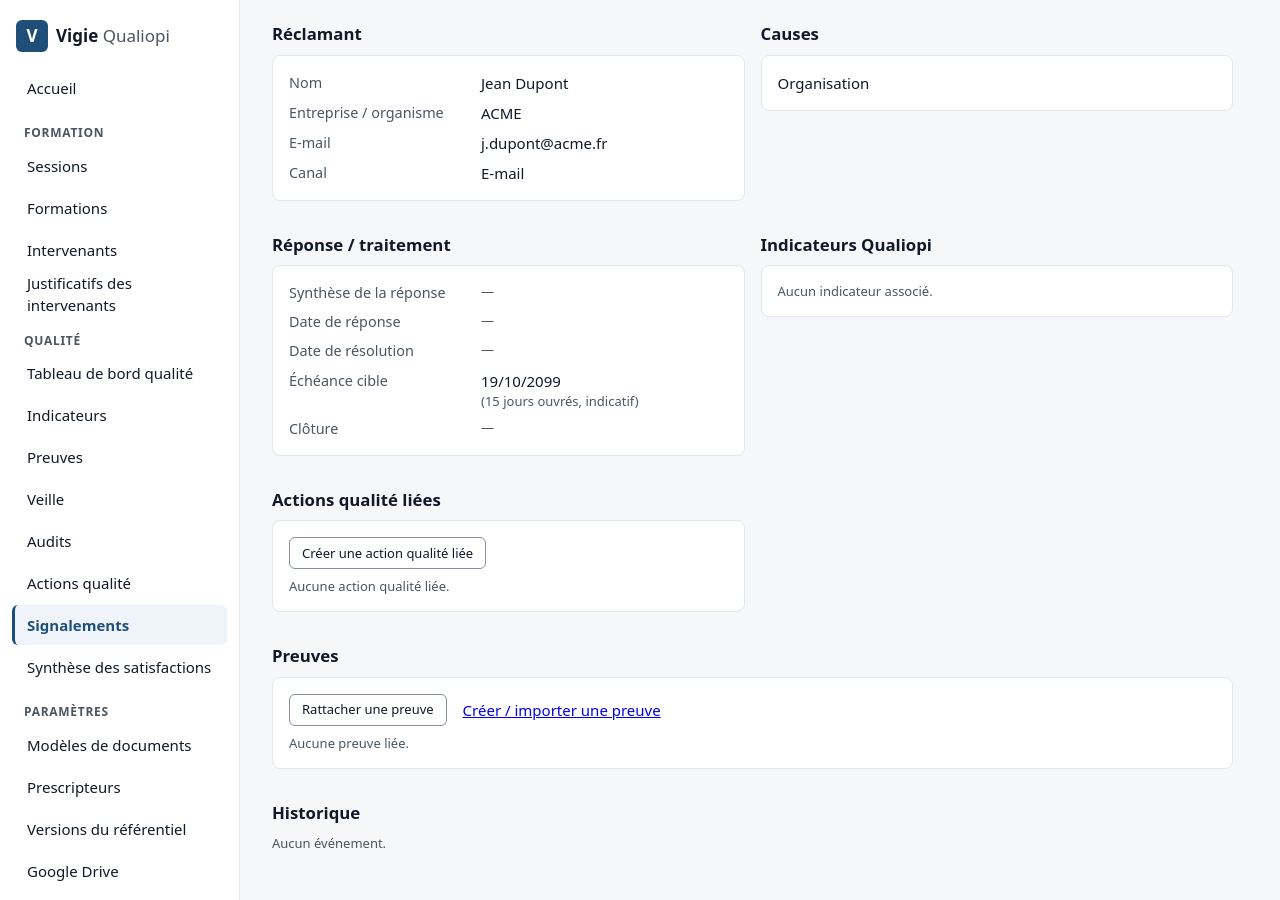
Test case: action liée : bouton sur la fiche admin, formulaire Actions réutilisé, contexte prérempli
(page scrolled)
Click the button "Créer une action qualité liée": (388, 553) [289, 537, 486, 569]
(page scrolled)
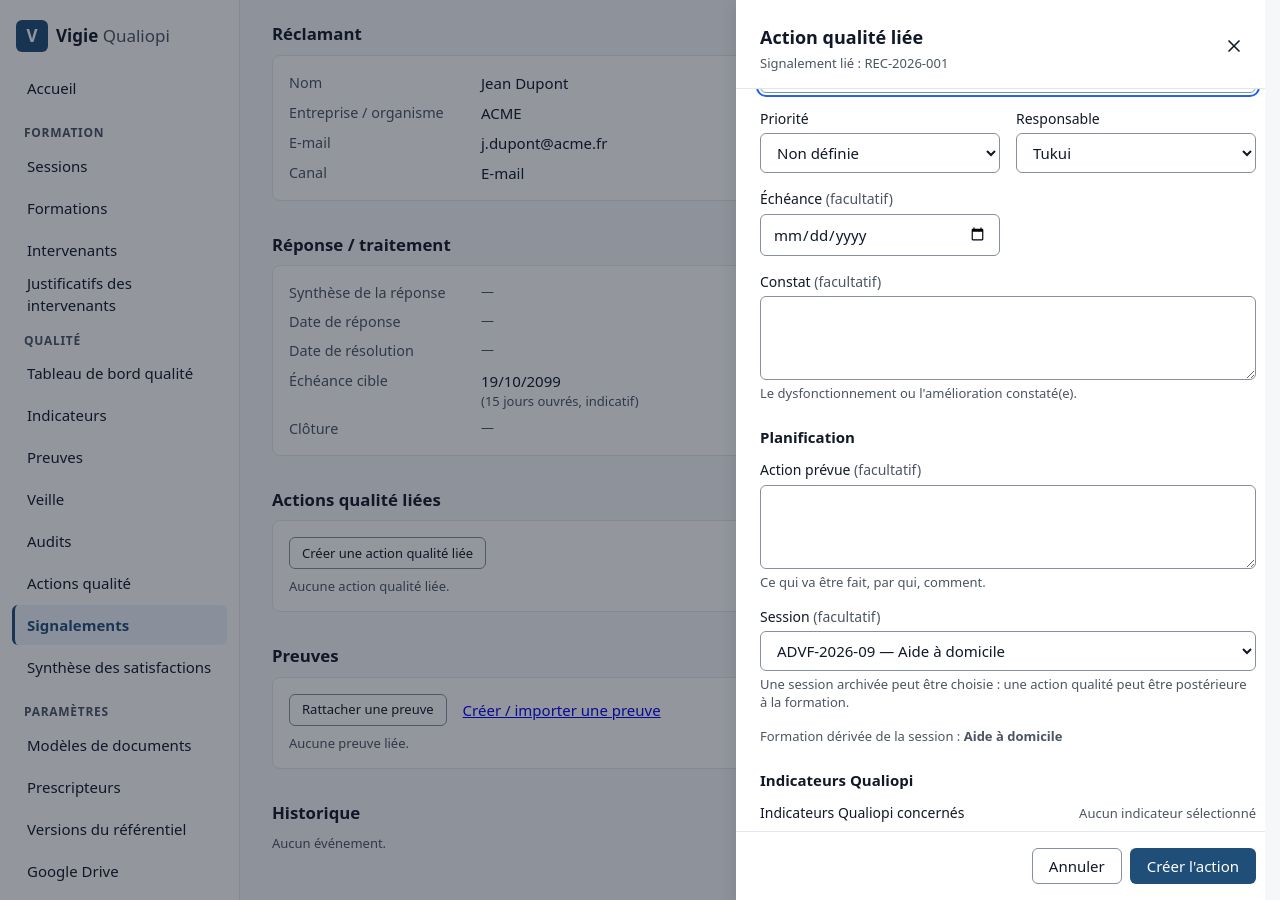
expect the form with id "form-action-qualite" is shown: met, box [760, 89, 1256, 831]
